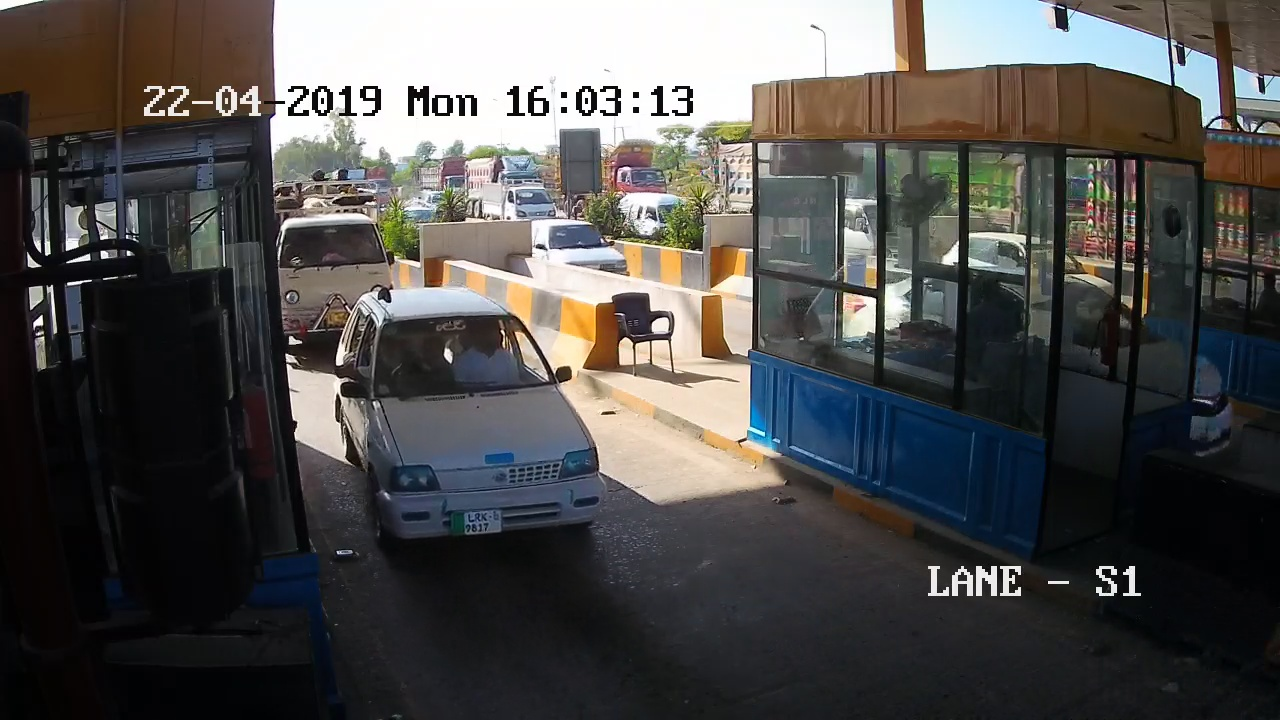Number Plate (Car): (450, 511, 502, 536), (325, 314, 347, 326)
